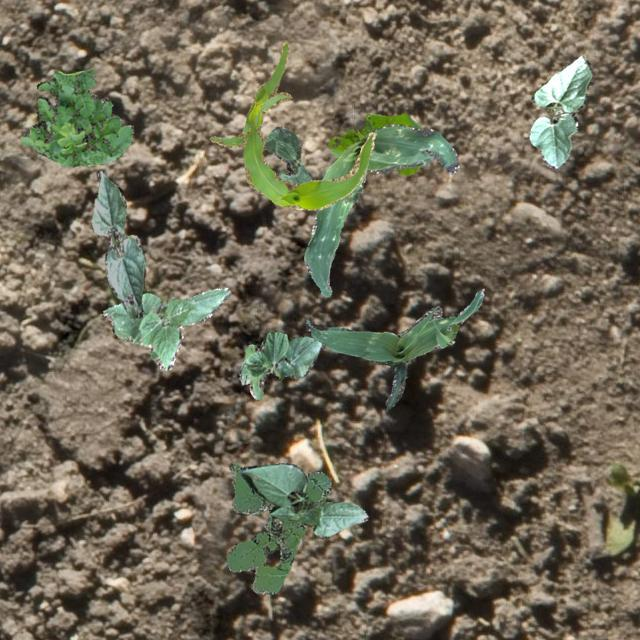crop: (208, 41, 374, 210), (302, 122, 458, 296), (304, 288, 482, 410), (102, 288, 230, 370), (240, 462, 368, 538), (90, 170, 146, 318), (528, 54, 594, 170), (238, 329, 322, 398), (262, 126, 312, 182)
weed: (226, 461, 330, 594), (20, 68, 132, 165), (328, 112, 422, 174)
